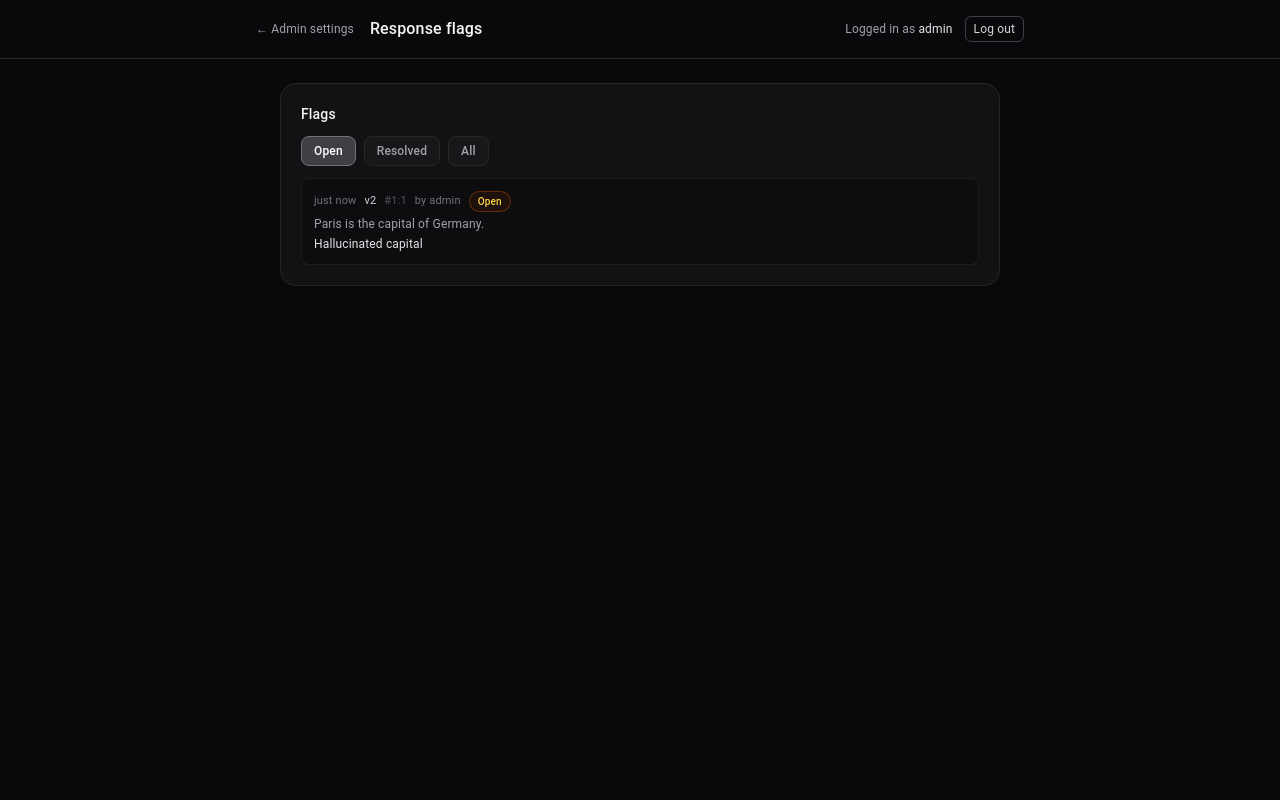
Test case: a never-logged conversation shows a note, not an empty transcript
This screenshot has width=1280, height=800.
Click the button named "Hallucinated capital" at (335, 201), box top-left (301, 178), bottom-right (979, 265)
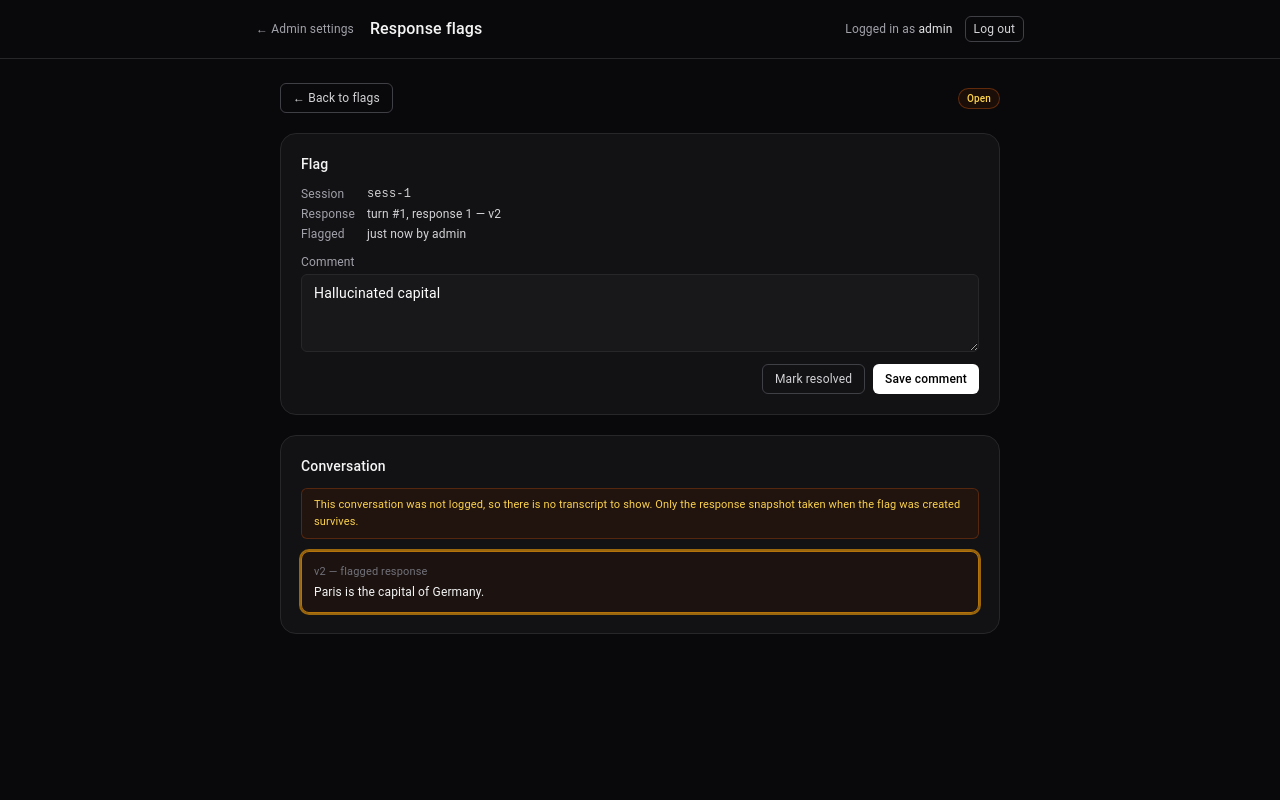
Check: the text "This conversation was not logged" is shown, box top-left (314, 498), bottom-right (960, 528)
Check: the text "v2 — flagged response Paris is the capital of Germany." is shown, box top-left (301, 551), bottom-right (979, 613)
